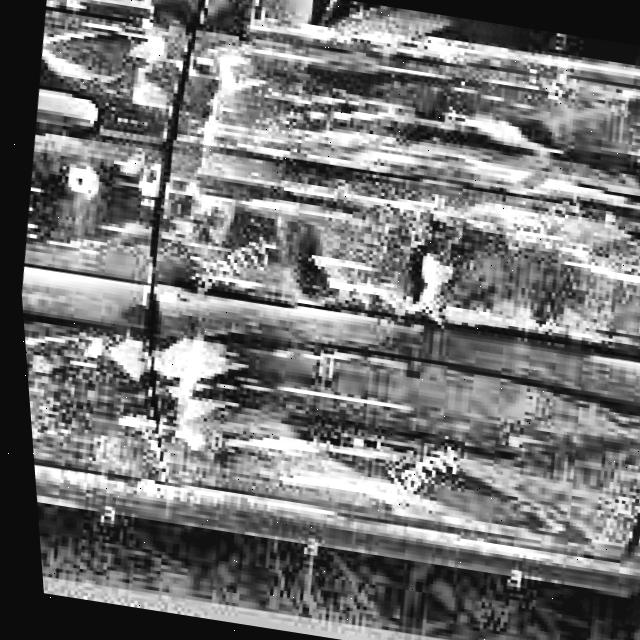door_dent: (9, 16, 640, 343), (22, 292, 640, 555)
door_scratch: (197, 83, 640, 293), (67, 319, 446, 517)
